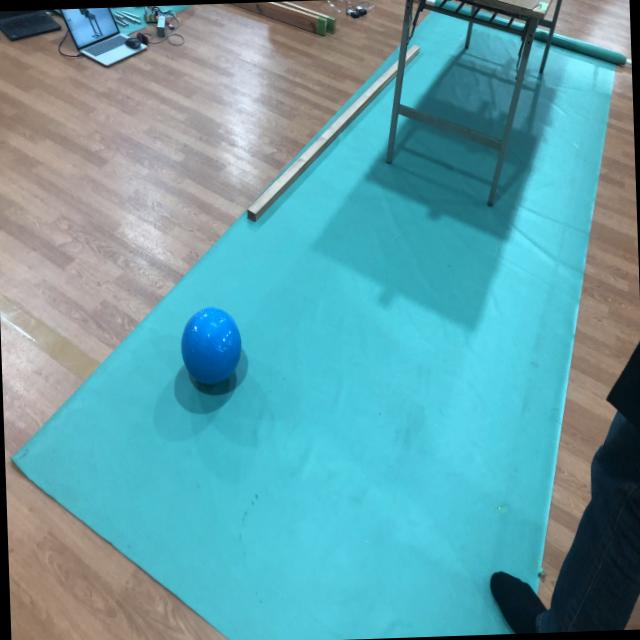blue_ball: (178, 308, 246, 392)
